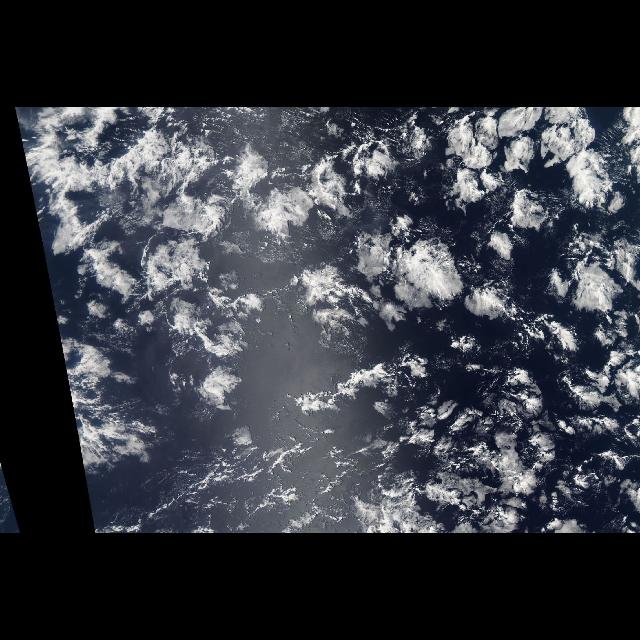Flower: (33, 111, 639, 522)
